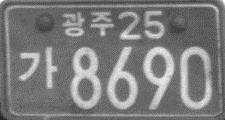0: (179, 45, 212, 111)
2: (117, 10, 144, 39)
5: (145, 10, 164, 40)
6: (106, 45, 139, 108)
8: (68, 44, 103, 107)
9: (142, 44, 175, 111)
가: (18, 45, 57, 92)
광주_O: (61, 10, 114, 39)
